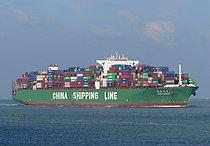Ship: (9, 50, 201, 112)
